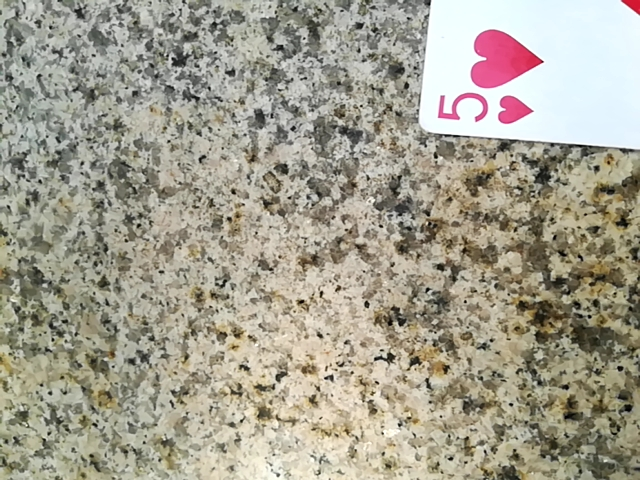hx 5: (424, 0, 640, 165)
